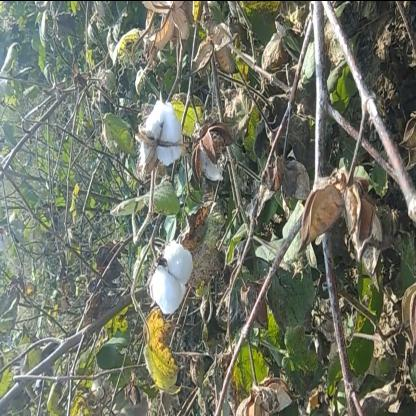cotton_ready: (129, 94, 187, 182), (142, 232, 194, 328)
